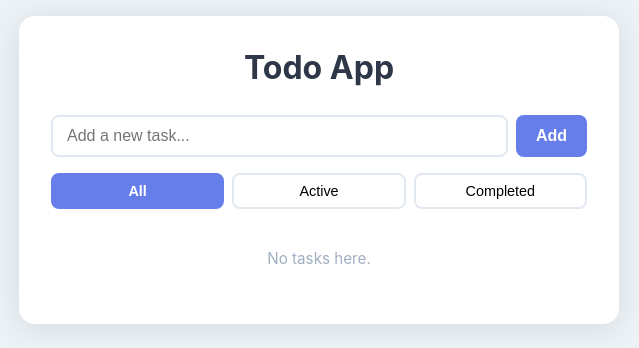
Test case: App › adds a todo
This screenshot has width=639, height=348.
Type "New task" into the field with placeholder "Add a new task...".
click(279, 136); type("New task")  # box [51,115,508,157]
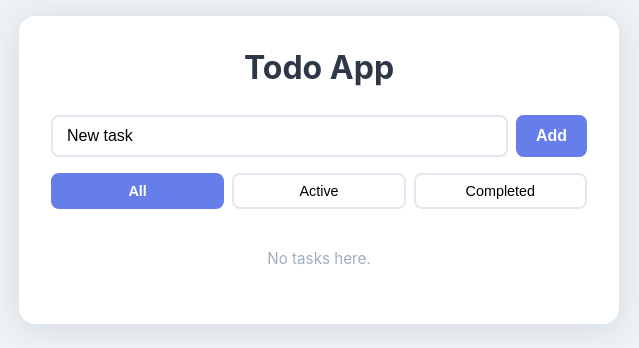
Click the button "Add".
click(551, 136)  # box [516,115,587,157]
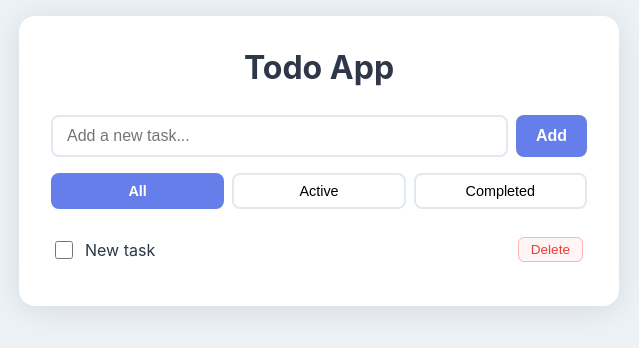
Check: the text "New task" is shown, box [85,240,155,260]
